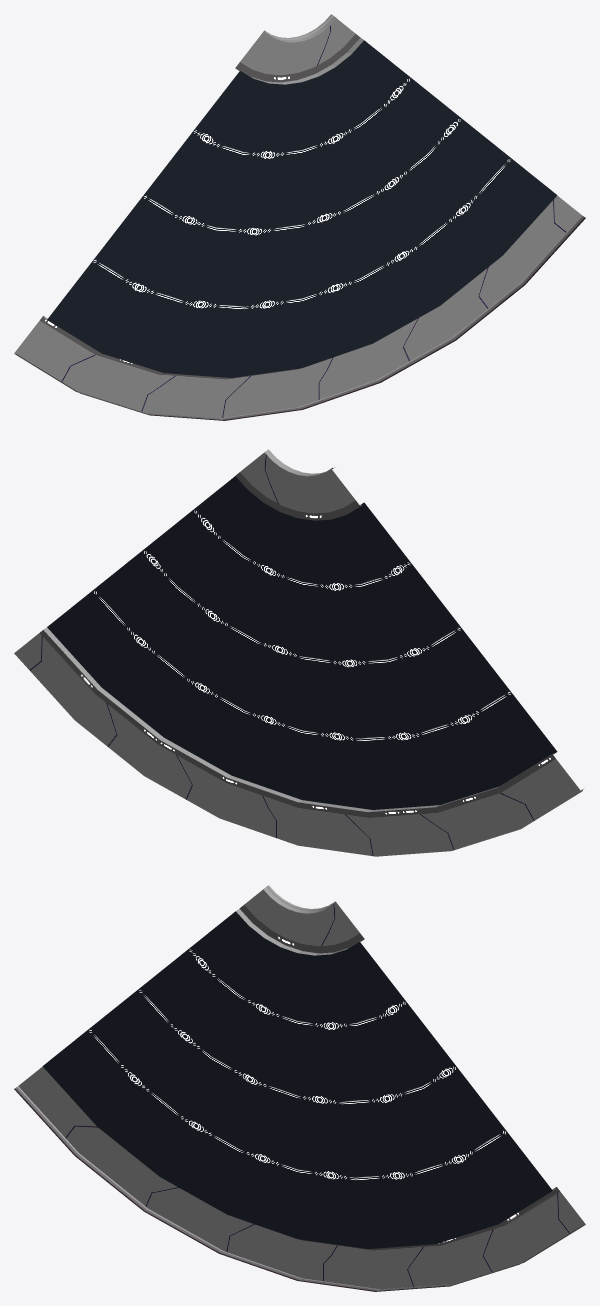
Rendered from SM_L_Road90.fbx.
The picture shows the model from 3 angles, top to bottom: view 1: azimuth 30°, elevation 25°; view 2: azimuth 150°, elevation 25°; view 3: azimuth 330°, elevation 25°; orthographic projection.
Parts seen in each view (by area): view 1: SM_L_Road90; view 2: SM_L_Road90; view 3: SM_L_Road90.
Part boxes in pixels (x1,y1,x2,y2): SM_L_Road90: [14, 14, 585, 420]; SM_L_Road90: [14, 449, 583, 856]; SM_L_Road90: [14, 885, 585, 1291].
Bounding box in the file's own units: 7892 × 5116 × 119.
